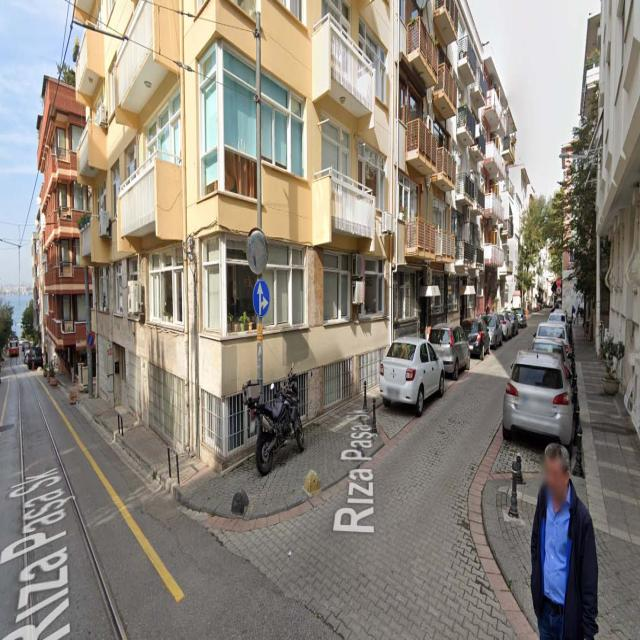ilerisag: (254, 280, 270, 317)
